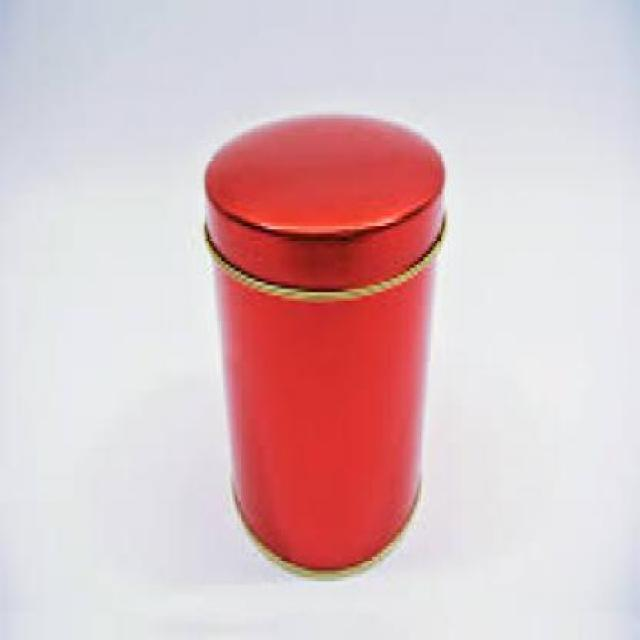METAL: (203, 111, 445, 571)
